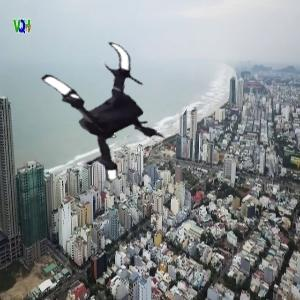drone: (31, 41, 185, 195)
